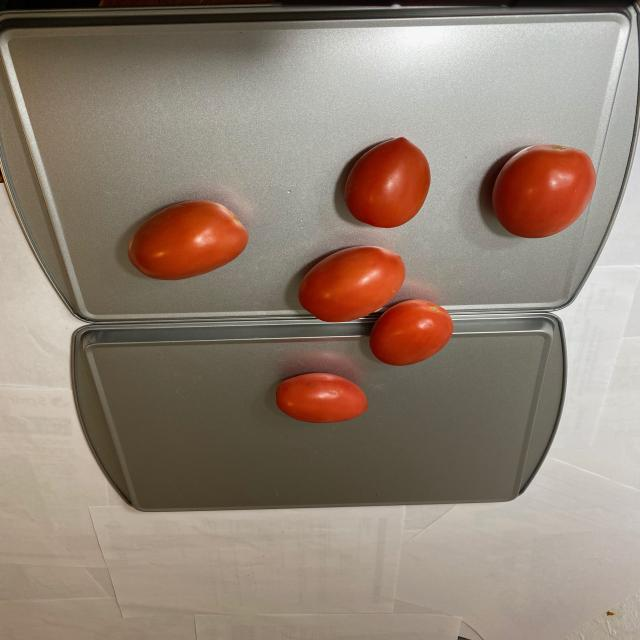tomato: (267, 133, 458, 425), (490, 138, 600, 242), (120, 196, 250, 283)
